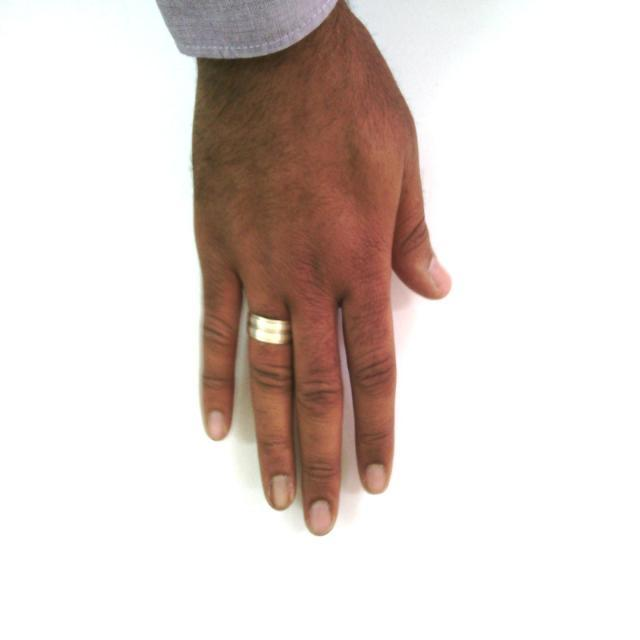Fingernail: (308, 500, 331, 535), (271, 475, 292, 510), (430, 257, 451, 290), (365, 464, 385, 493), (209, 411, 225, 439)
